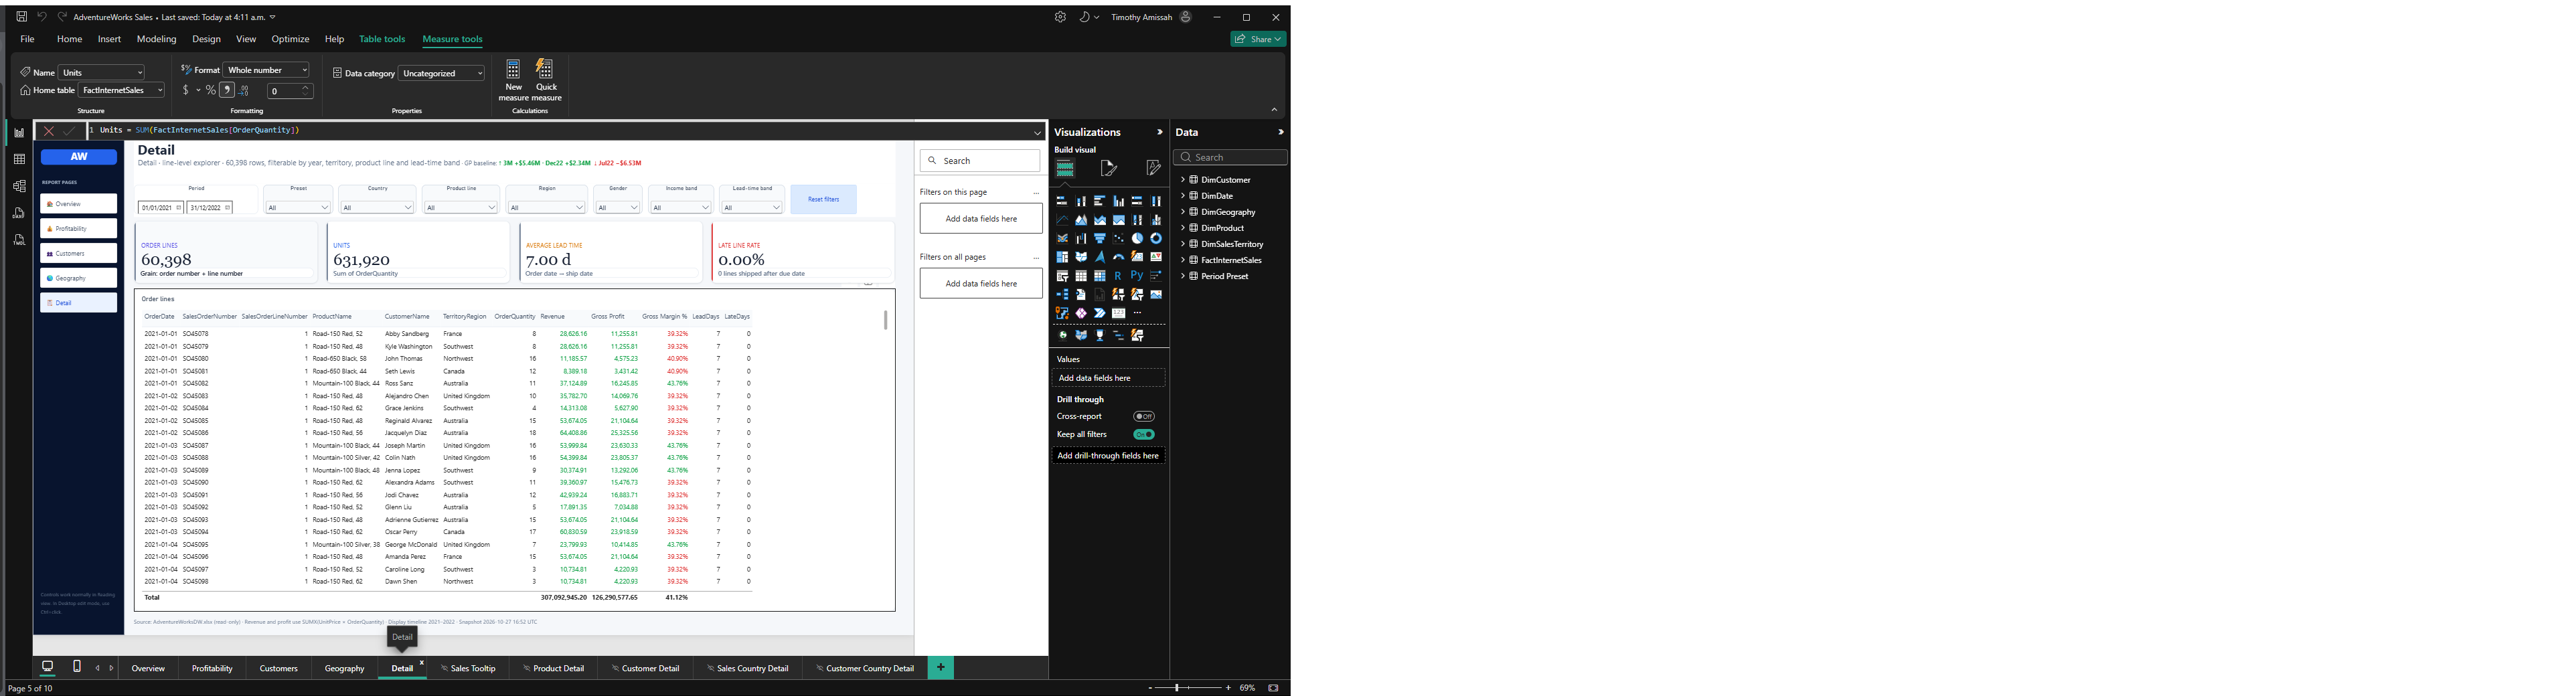

The dashboard page shown, as its layout file describes it:
{"tool":"powerbi","page":{"name":"Detail","canvas":[1920,1080],"ordinal":4},"visuals":[{"type":"textbox","box":[220,96,1660,72],"z":0},{"type":"textbox","box":[220,1040,1660,32],"z":1000},{"type":"textbox","box":[220,0,1660,96],"z":2000},{"type":"textbox","box":[0,0,200,1080],"z":3000},{"type":"cardVisual","fields":{"Data":["FactInternetSales.KPI Units"]},"box":[639.5,176,401.5,136],"z":4000},{"type":"cardVisual","fields":{"Data":["FactInternetSales.KPI Lines"]},"box":[220,176,401.5,136],"z":5000},{"type":"tableEx","title":"Order lines","fields":{"Values":["FactInternetSales.OrderDate","FactInternetSales.SalesOrderNumber","FactInternetSales.SalesOrderLineNumber","DimProduct.ProductName","DimCustomer.CustomerName","DimSalesTerritory.TerritoryRegion","FactInternetSales.OrderQuantity","FactInternetSales.Revenue","FactInternetSales.Gross Profit","FactInternetSales.Gross Margin %","FactInternetSales.LeadDays","FactInternetSales.LateDays"]},"box":[220,324,1660,704],"z":6000},{"type":"cardVisual","fields":{"Data":["FactInternetSales.KPI Late Line Rate"]},"box":[1478.5,176,401.5,136],"z":7000},{"type":"cardVisual","fields":{"Data":["FactInternetSales.KPI Avg Lead"]},"box":[1059,176,401.5,136],"z":8000},{"type":"textbox","box":[17.5,980.4,164.9,59.8],"z":9000},{"type":"textbox","box":[20,82,160,22],"z":10000},{"type":"textbox","box":[17.5,20.4,166.3,33.6],"z":11000},{"type":"slicer","title":"Product line","fields":{"Values":["DimProduct.ProductLine"]},"box":[847.9,98,171.4,64],"z":12000},{"type":"slicer","title":"Income band","fields":{"Values":["DimCustomer.IncomeBand"]},"box":[1340.5,98,144.3,64],"z":13000},{"type":"slicer","title":"Region","fields":{"Values":["DimSalesTerritory.TerritoryGroup"]},"box":[1030.2,98,180.4,64],"z":14000},{"type":"slicer","title":"Period","fields":{"Values":["DimDate.Date"]},"box":[220,98,270.6,64],"z":15000},{"type":"slicer","title":"Preset","fields":{"Values":["Period Preset.Preset"]},"box":[501.5,98,153.4,64],"z":16000},{"type":"slicer","title":"Country","fields":{"Values":["DimCustomer.Customer Country"]},"box":[665.7,98,171.4,64],"z":17000},{"type":"slicer","title":"Lead-time band","fields":{"Values":["FactInternetSales.LeadBucket"]},"box":[1495.7,98,144.3,64],"z":18000},{"type":"actionButton","box":[1650.8,98,144.3,64],"z":19000},{"type":"slicer","title":"Gender","fields":{"Values":["DimCustomer.Gender"]},"box":[1221.4,98,108.3,64],"z":20000},{"type":"actionButton","box":[16,278,168,44],"z":21000},{"type":"actionButton","box":[16,170,168,44],"z":22000},{"type":"actionButton","box":[16,116,168,44],"z":23000},{"type":"actionButton","box":[16,224,168,44],"z":24000},{"type":"actionButton","box":[16,332,168,44],"z":25000},{"type":"cardVisual","fields":{"Data":["FactInternetSales.Sub Detail Lines"]},"box":[233.5,278,378.9,22],"z":26000},{"type":"cardVisual","fields":{"Data":["FactInternetSales.Sub Detail Late"]},"box":[1492.1,278,378.9,22],"z":27000},{"type":"cardVisual","fields":{"Data":["FactInternetSales.Sub Detail Units"]},"box":[653,278,378.9,22],"z":28000},{"type":"cardVisual","fields":{"Data":["FactInternetSales.Sub Detail Avg Lead"]},"box":[1072.5,278,378.9,22],"z":29000}]}

Visuals, with their boxes on the page's 1920x1080 design canvas (x1, y1, x2, y2). These are canvas units, not pixel positions in the 2576x696 screenshot, which may show the page scaled, cropped or inside an application window:
textbox: rect(220, 96, 1880, 168)
textbox: rect(220, 1040, 1880, 1072)
textbox: rect(220, 0, 1880, 96)
textbox: rect(0, 0, 200, 1080)
cardVisual - FactInternetSales.KPI Units: rect(640, 176, 1041, 312)
cardVisual - FactInternetSales.KPI Lines: rect(220, 176, 622, 312)
"Order lines" tableEx: rect(220, 324, 1880, 1028)
cardVisual - FactInternetSales.KPI Late Line Rate: rect(1478, 176, 1880, 312)
cardVisual - FactInternetSales.KPI Avg Lead: rect(1059, 176, 1460, 312)
textbox: rect(18, 980, 182, 1040)
textbox: rect(20, 82, 180, 104)
textbox: rect(18, 20, 184, 54)
"Product line" slicer: rect(848, 98, 1019, 162)
"Income band" slicer: rect(1340, 98, 1485, 162)
"Region" slicer: rect(1030, 98, 1211, 162)
"Period" slicer: rect(220, 98, 491, 162)
"Preset" slicer: rect(502, 98, 655, 162)
"Country" slicer: rect(666, 98, 837, 162)
"Lead-time band" slicer: rect(1496, 98, 1640, 162)
actionButton: rect(1651, 98, 1795, 162)
"Gender" slicer: rect(1221, 98, 1330, 162)
actionButton: rect(16, 278, 184, 322)
actionButton: rect(16, 170, 184, 214)
actionButton: rect(16, 116, 184, 160)
actionButton: rect(16, 224, 184, 268)
actionButton: rect(16, 332, 184, 376)
cardVisual - FactInternetSales.Sub Detail Lines: rect(234, 278, 612, 300)
cardVisual - FactInternetSales.Sub Detail Late: rect(1492, 278, 1871, 300)
cardVisual - FactInternetSales.Sub Detail Units: rect(653, 278, 1032, 300)
cardVisual - FactInternetSales.Sub Detail Avg Lead: rect(1072, 278, 1451, 300)
